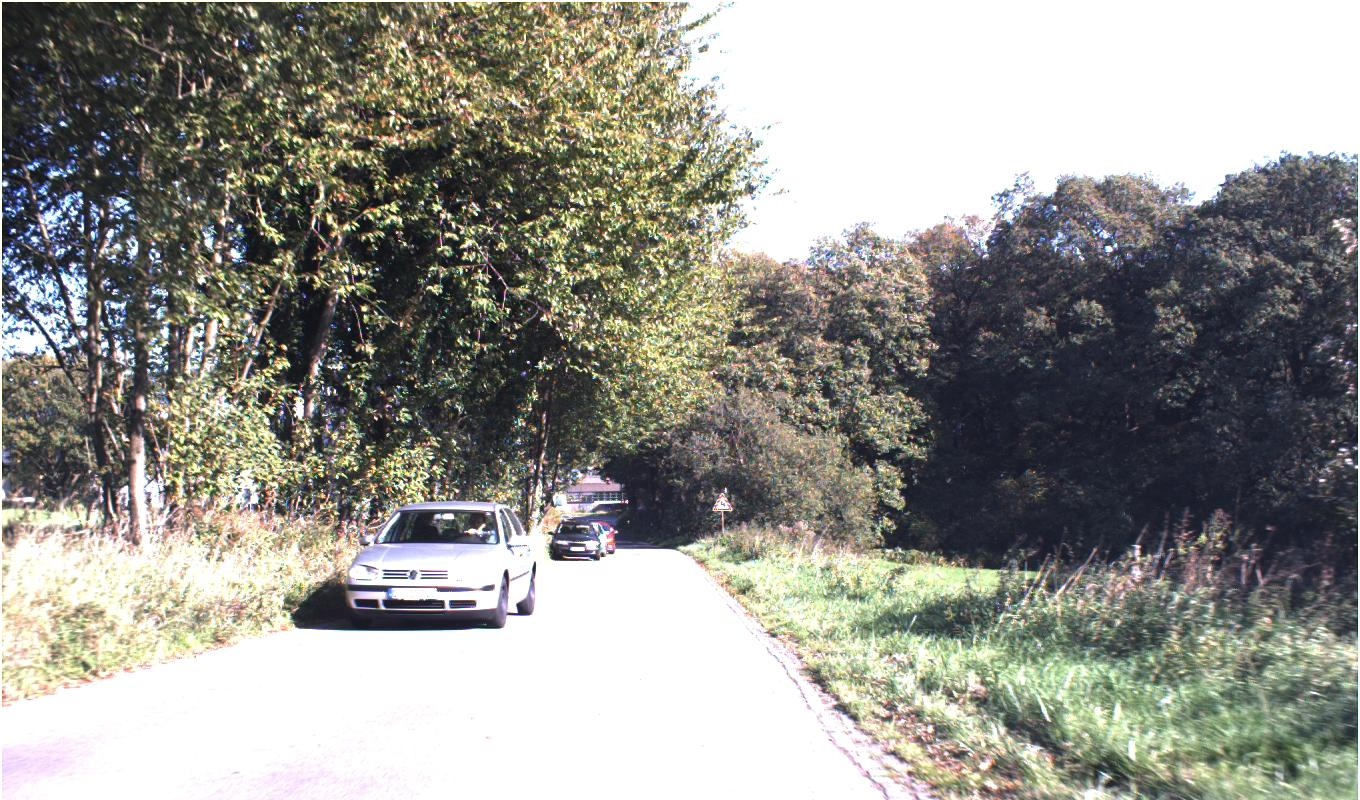danger: (712, 492, 732, 511)
